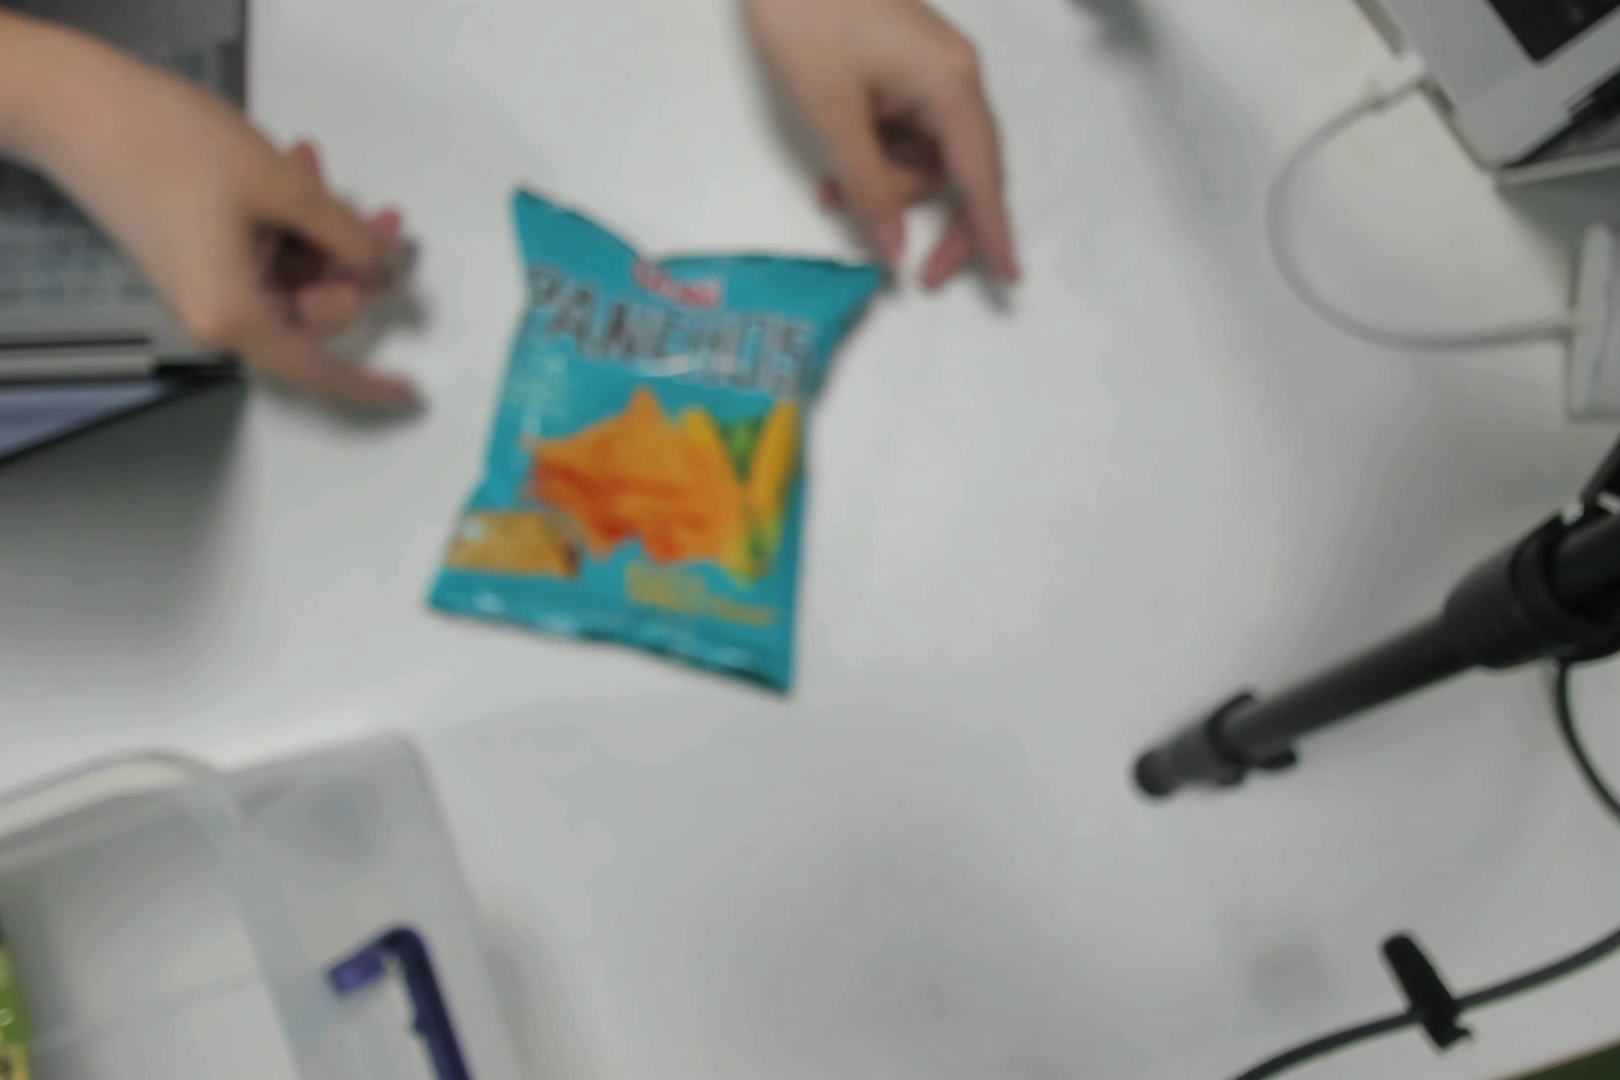PotatochipsKeropok_1-99g_NonHalal_NonHealthy: (485, 242, 818, 645)
